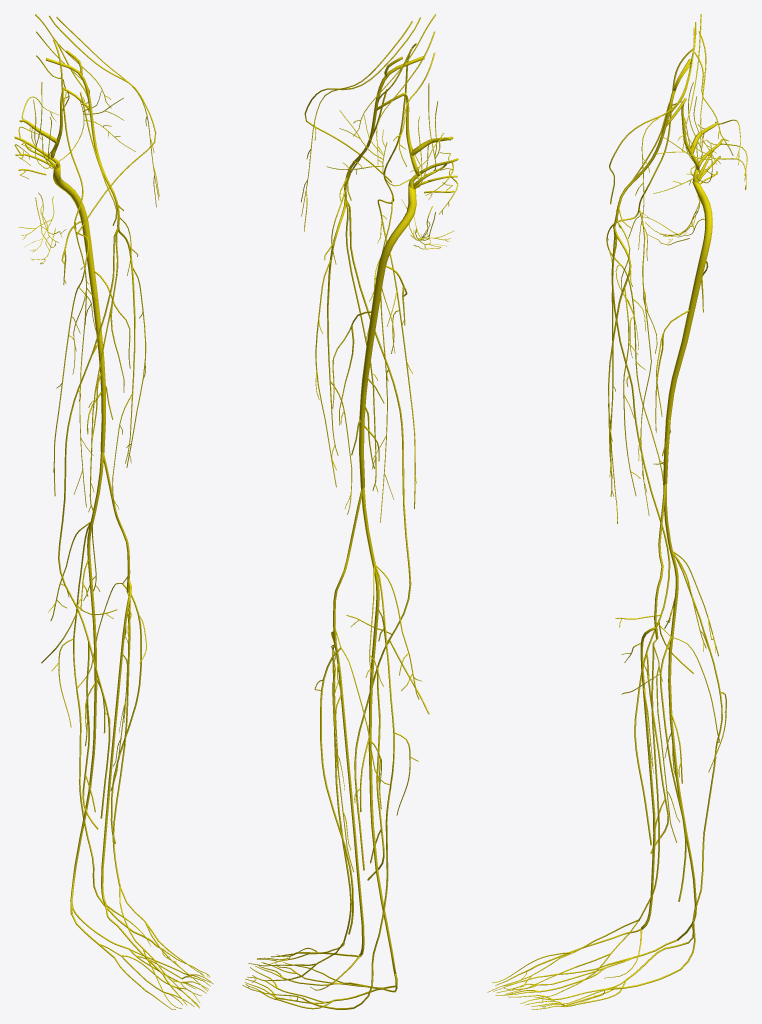
File: Lower limb Nerves L.fbx
3 views of the same model, side by side, from view 1: azimuth 30°, elevation 25°; view 2: azimuth 210°, elevation 25°; view 3: azimuth 270°, elevation 25° (orthographic). The views are drawn at different scales.
Parts seen in each view (by area): view 1: Sciatic_L, Saphenous_L, Tibial_L, Femoral_L, Obturator_L, Deep_fibular_L, Superficial_fibular_L, Lateral_sural_cutaneous_L, Dorsal_metatarsal_and_digital_branches_L, Sural_L, Superior_gluteal_L, Common_plantar_digital_L (+1 smaller); view 2: Sciatic_L, Saphenous_L, Tibial_L, Femoral_L, Obturator_L, Deep_fibular_L, Lateral_sural_cutaneous_L, Superficial_fibular_L, Superior_clunial_L, Sural_L, Superior_gluteal_L, Dorsal_metatarsal_and_digital_branches_L (+4 smaller); view 3: Sciatic_L, Saphenous_L, Tibial_L, Femoral_L, Obturator_L, Deep_fibular_L, Superficial_fibular_L, Lateral_sural_cutaneous_L, Dorsal_metatarsal_and_digital_branches_L, Common_plantar_digital_L, Sural_L, Superior_clunial_L (+1 smaller).
Boxes of the visible parts, box(x1,y1,x2,y2) form: Sciatic_L: box(36, 134, 130, 452); Saphenous_L: box(41, 227, 118, 829); Tibial_L: box(48, 452, 110, 913); Femoral_L: box(45, 42, 146, 515); Obturator_L: box(53, 39, 99, 507); Deep_fibular_L: box(101, 580, 131, 904); Superficial_fibular_L: box(110, 592, 130, 886); Lateral_sural_cutaneous_L: box(77, 576, 146, 843); Dorsal_metatarsal_and_digital_branches_L: box(142, 946, 209, 1008); Sural_L: box(76, 694, 157, 946); Superior_gluteal_L: box(31, 82, 135, 168); Common_plantar_digital_L: box(114, 948, 183, 991); Sciatic_L: box(332, 145, 436, 488); Saphenous_L: box(345, 200, 429, 880); Tibial_L: box(354, 488, 421, 986); Femoral_L: box(315, 47, 424, 514); Obturator_L: box(366, 43, 416, 522); Deep_fibular_L: box(331, 631, 364, 957); Lateral_sural_cutaneous_L: box(314, 626, 390, 934); Superficial_fibular_L: box(332, 645, 354, 943); Superior_clunial_L: box(353, 14, 435, 166); Sural_L: box(302, 790, 390, 1009); Superior_gluteal_L: box(326, 83, 440, 186); Dorsal_metatarsal_and_digital_branches_L: box(246, 947, 318, 1001); Sciatic_L: box(653, 143, 712, 484); Saphenous_L: box(609, 230, 693, 853); Tibial_L: box(663, 484, 718, 940); Femoral_L: box(608, 53, 692, 523); Obturator_L: box(606, 48, 693, 515); Deep_fibular_L: box(621, 627, 655, 929); Superficial_fibular_L: box(638, 639, 679, 920); Lateral_sural_cutaneous_L: box(621, 622, 719, 901); Dorsal_metatarsal_and_digital_branches_L: box(487, 951, 611, 1007); Common_plantar_digital_L: box(537, 964, 626, 1006); Sural_L: box(612, 748, 716, 989); Superior_clunial_L: box(678, 14, 733, 164).
Bounding box in the file's own units: 15.91 × 123 × 30.41.
